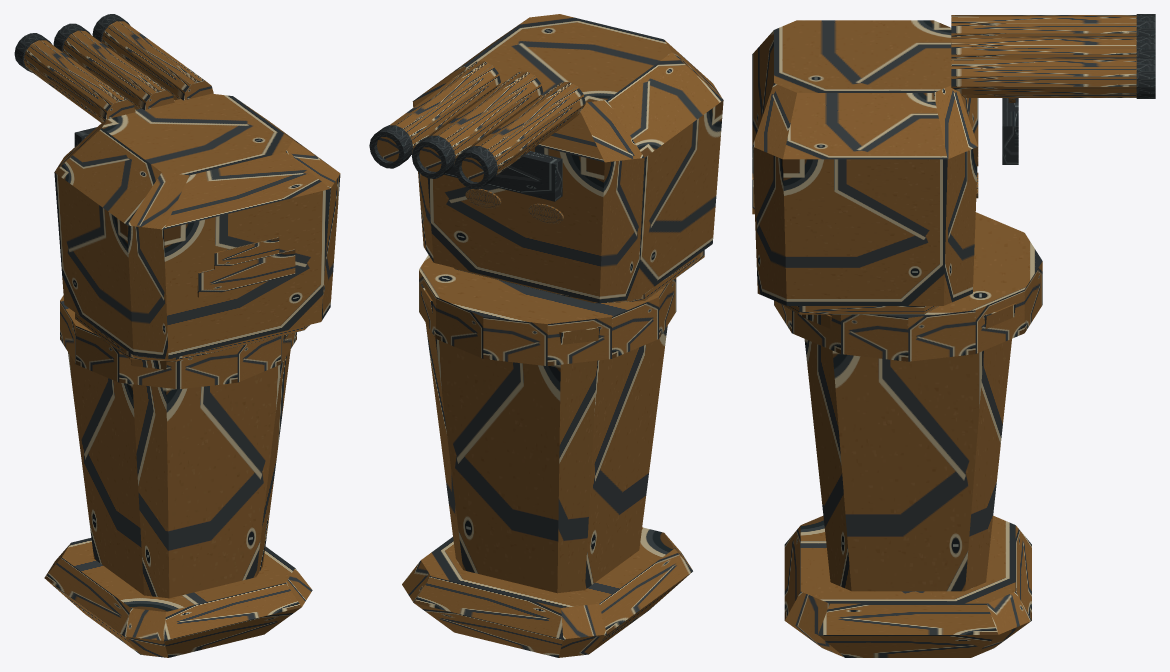
The model's file is turret.glb.
3 renders of one model, left to right at view 1: azimuth 30°, elevation 25°; view 2: azimuth 150°, elevation 25°; view 3: azimuth 270°, elevation 25°, orthographic. The views are drawn at different scales.
Visible parts, largest first — view 1: STProp_turret_HeadMesh, STProp_turret_Body; view 2: STProp_turret_Body, STProp_turret_HeadMesh; view 3: STProp_turret_HeadMesh, STProp_turret_Body.
Part boxes in pixels (x1,y1,x2,y2): STProp_turret_HeadMesh: (14, 14, 340, 361); STProp_turret_Body: (44, 295, 312, 657); STProp_turret_Body: (402, 255, 692, 657); STProp_turret_HeadMesh: (369, 14, 723, 303); STProp_turret_HeadMesh: (752, 14, 1155, 314); STProp_turret_Body: (774, 212, 1042, 657).
Bounding box in the file's own units: 0.52 × 1.24 × 0.75.
Materials: 5 (4 with a texture image).
